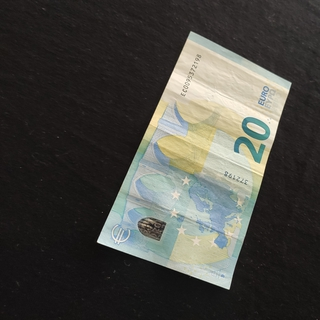20EUROBack: (97, 31, 292, 289)
